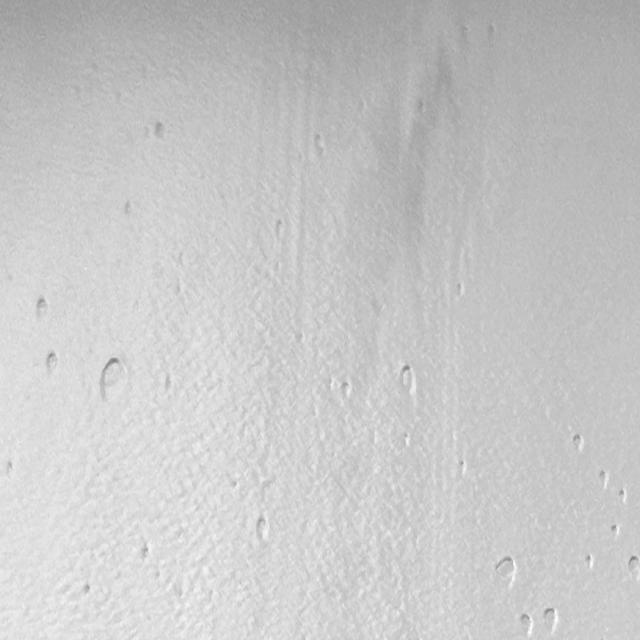pin holes: (96, 354, 130, 405), (490, 556, 518, 590), (394, 363, 418, 397), (540, 605, 560, 636), (32, 294, 52, 324), (41, 350, 61, 378), (150, 119, 171, 143), (252, 516, 270, 543), (517, 611, 535, 638), (120, 197, 140, 220), (338, 380, 356, 405), (312, 134, 329, 160), (570, 434, 588, 456), (161, 373, 177, 397), (596, 468, 612, 490), (452, 280, 468, 302), (398, 428, 414, 450), (626, 556, 640, 580), (610, 521, 624, 540), (138, 544, 152, 563), (455, 458, 467, 480), (5, 461, 18, 480), (584, 551, 596, 571), (617, 488, 630, 506), (82, 582, 96, 598)
